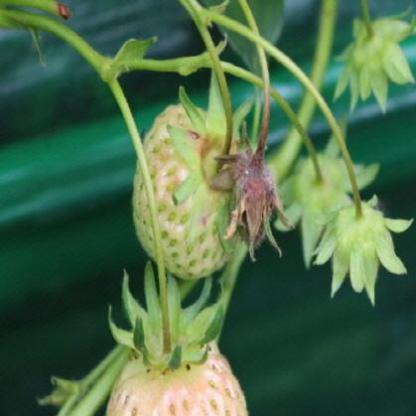Strawberry_Gray_Mold: (208, 114, 298, 262)
